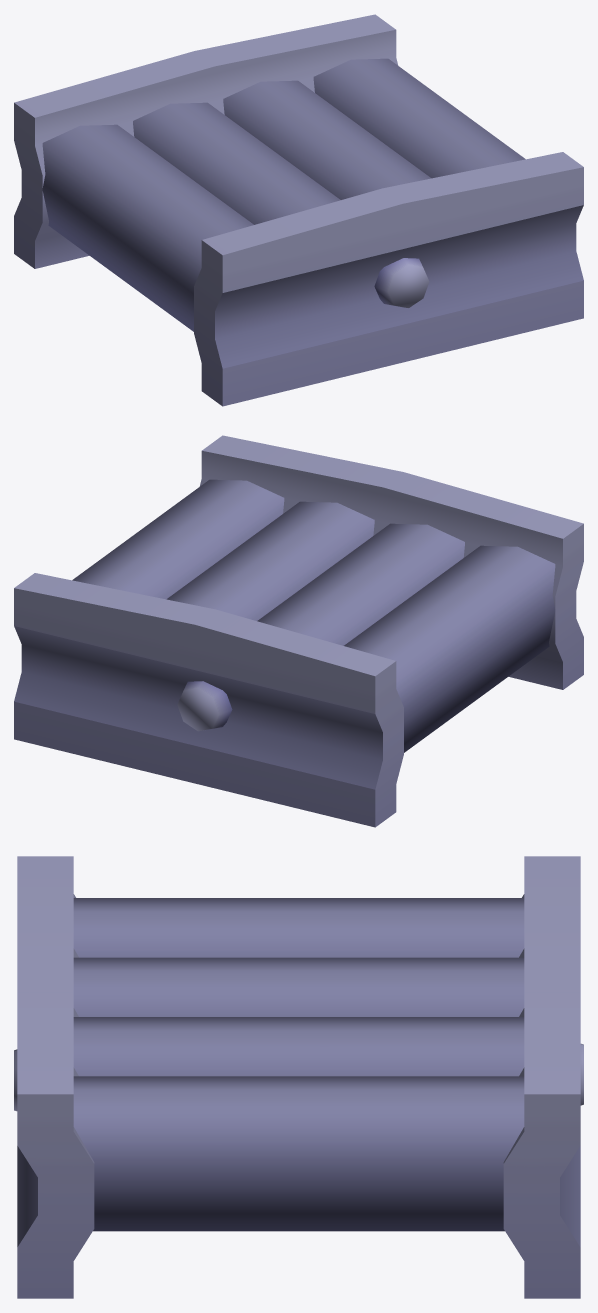
The model's file is conveyor.glb.
3 renders of one model, top to bottom at view 1: azimuth 30°, elevation 25°; view 2: azimuth 150°, elevation 25°; view 3: azimuth 270°, elevation 25°, orthographic. The views are drawn at different scales.
Visible parts, largest first — view 1: conveyor-bars-high; view 2: conveyor-bars-high; view 3: conveyor-bars-high.
Part boxes in pixels (<box>): conveyor-bars-high: <box>14,14,583,406</box>; conveyor-bars-high: <box>14,435,583,827</box>; conveyor-bars-high: <box>14,856,583,1298</box>.
Size of the model in its own units: 1 by 0.4199 by 1.01.
1 material, 1 textured.
